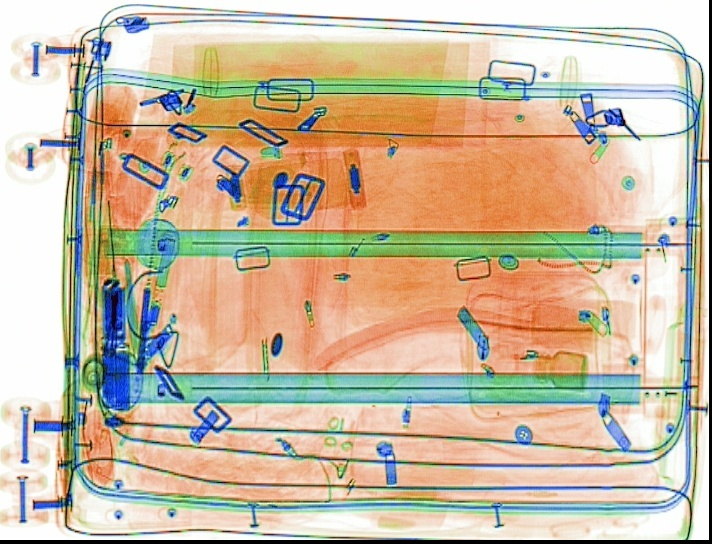powerbank: (98, 275, 133, 411)
